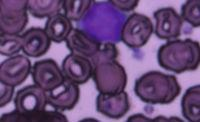L: (76, 0, 127, 43)
